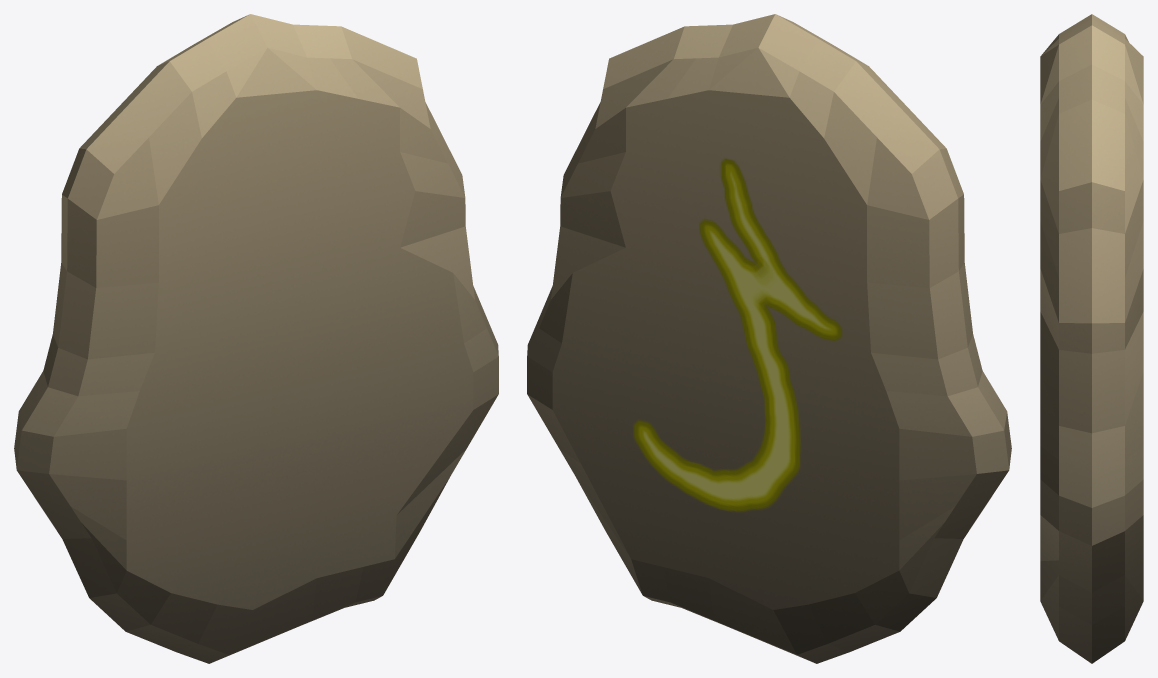
Rendered from rune_model_agility 1.fbx.
3 views of the same model, side by side, from view 1: azimuth 30°, elevation 25°; view 2: azimuth 150°, elevation 25°; view 3: azimuth 270°, elevation 25° (orthographic). The views are drawn at different scales.
Parts seen in each view (by area): view 1: Cube.001; view 2: Cube.001; view 3: Cube.001.
Boxes of the visible parts, x1,y1,x2,y2 form: Cube.001: [14, 14, 498, 663]; Cube.001: [527, 14, 1011, 663]; Cube.001: [1040, 14, 1143, 663].
Bounding box in the file's own units: 47.28 × 60.04 × 9.32.
